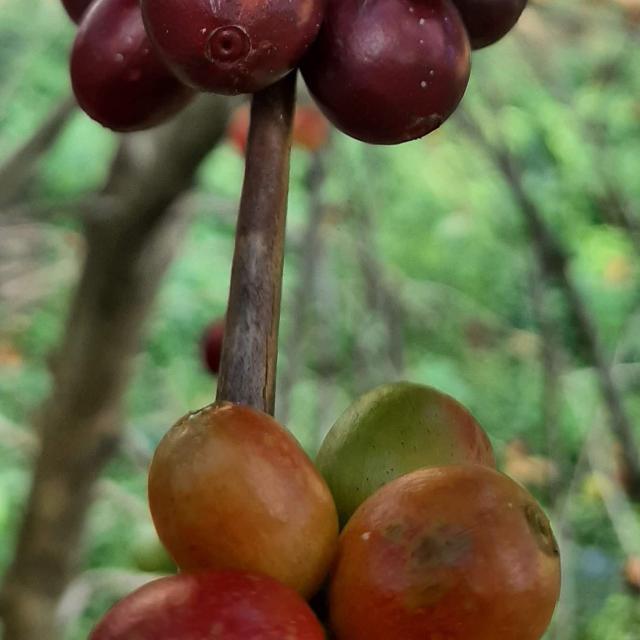red: (300, 0, 471, 144), (140, 0, 326, 94), (88, 570, 325, 640), (69, 0, 194, 131)
yellow: (329, 465, 561, 640), (147, 403, 339, 599), (315, 382, 496, 528)
